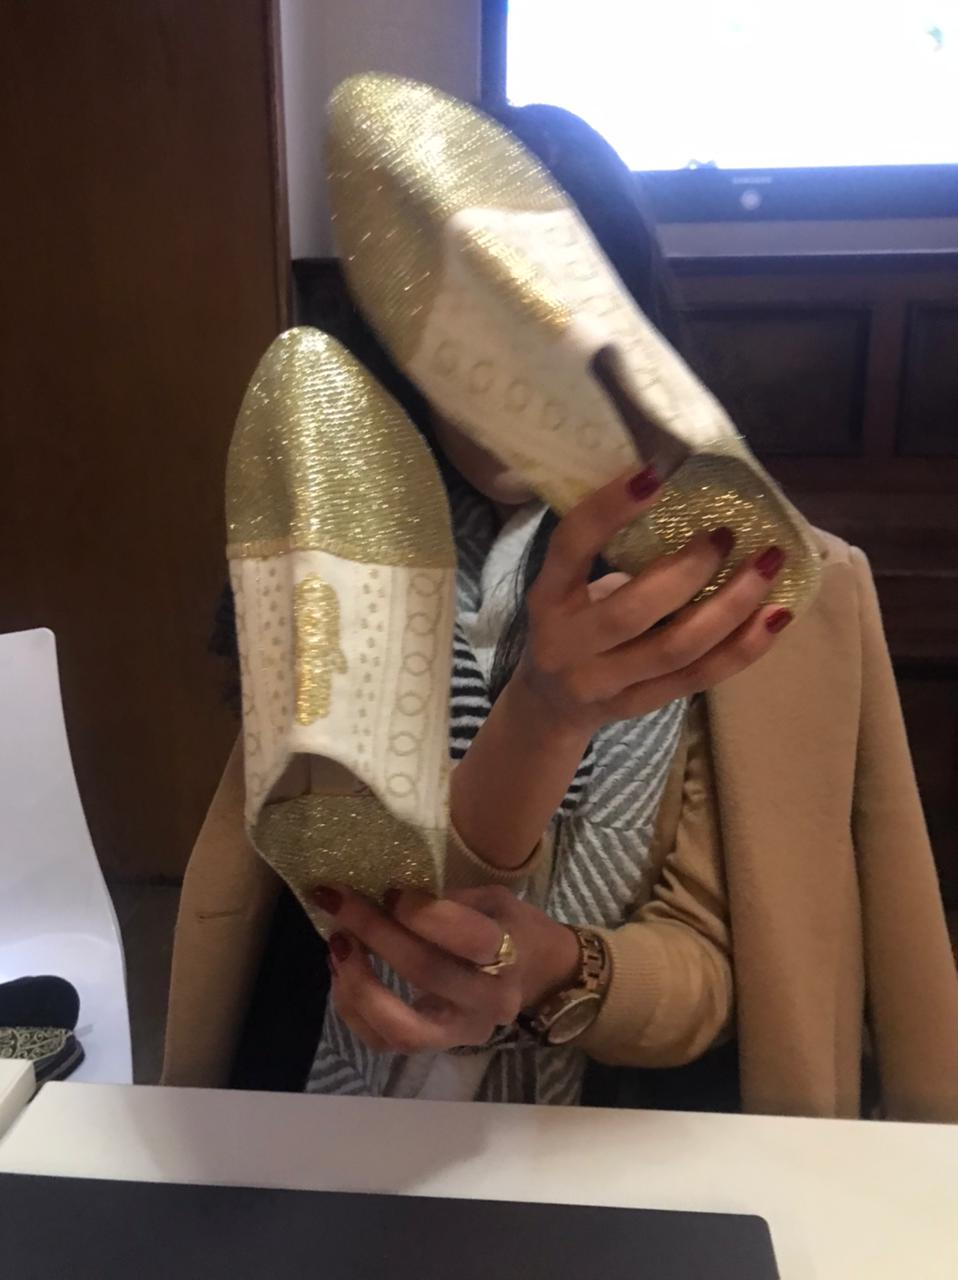balgha: (188, 280, 517, 999)
